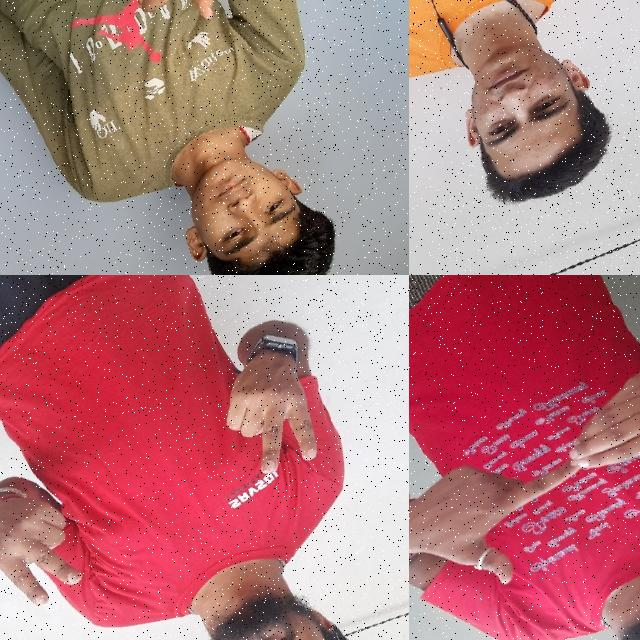Five Fathers: (409, 333, 640, 622)
Reversed Victory: (197, 328, 353, 496), (0, 462, 106, 631)
Thumbs Up: (107, 0, 241, 51)
